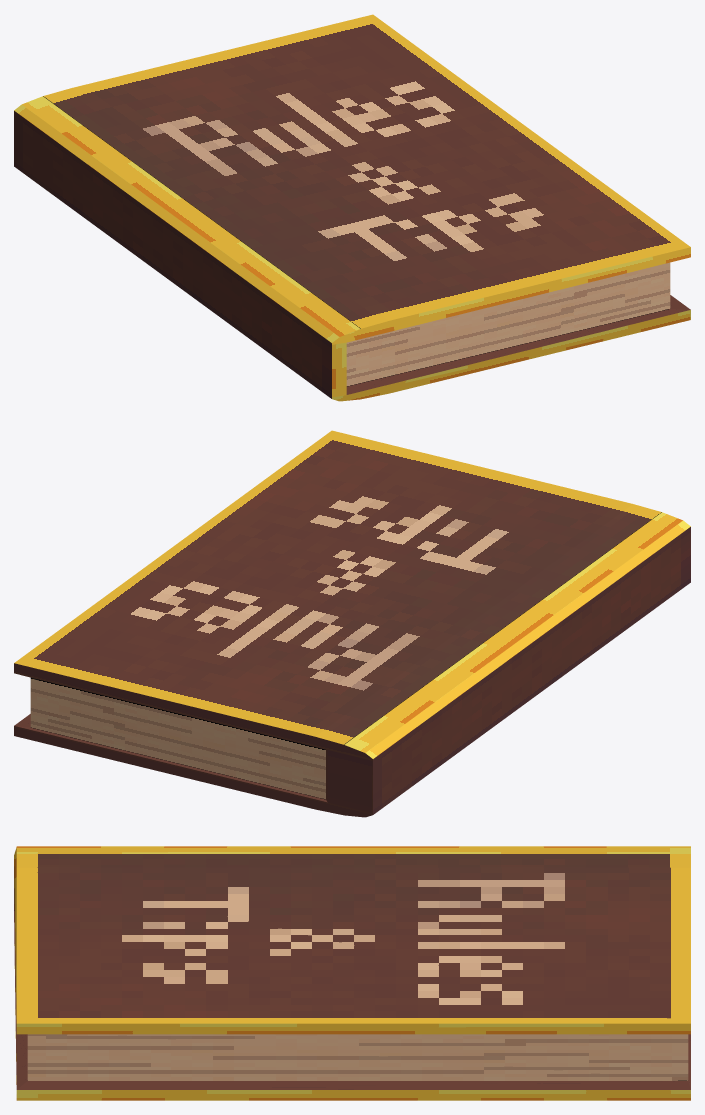
Rendered from book.glb.
The picture shows the model from 3 angles, top to bottom: view 1: azimuth 30°, elevation 25°; view 2: azimuth 150°, elevation 25°; view 3: azimuth 270°, elevation 25°; orthographic projection. The views are drawn at different scales.
Visible parts, largest first — view 1: Book; view 2: Book; view 3: Book.
Part boxes in pixels (x1=…): Book: x1=14, y1=14, x2=690, y2=401; Book: x1=14, y1=430, x2=690, y2=817; Book: x1=14, y1=846, x2=690, y2=1100.
Bounding box in the file's own units: 8.7 × 1.69 × 13.4.
Materials: 1 (1 with a texture image).
